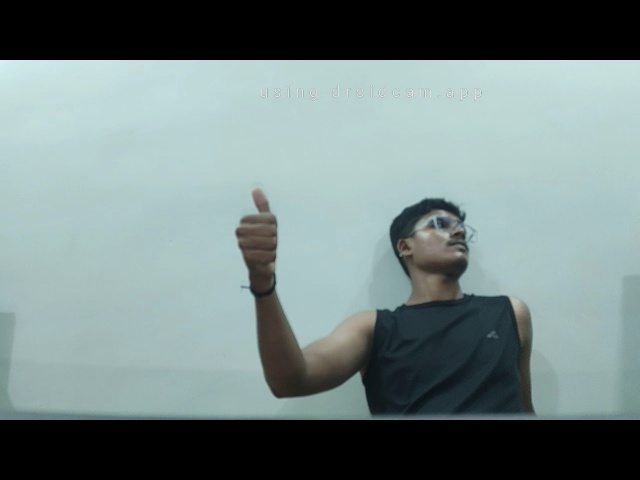thanks: (214, 178, 299, 291)
